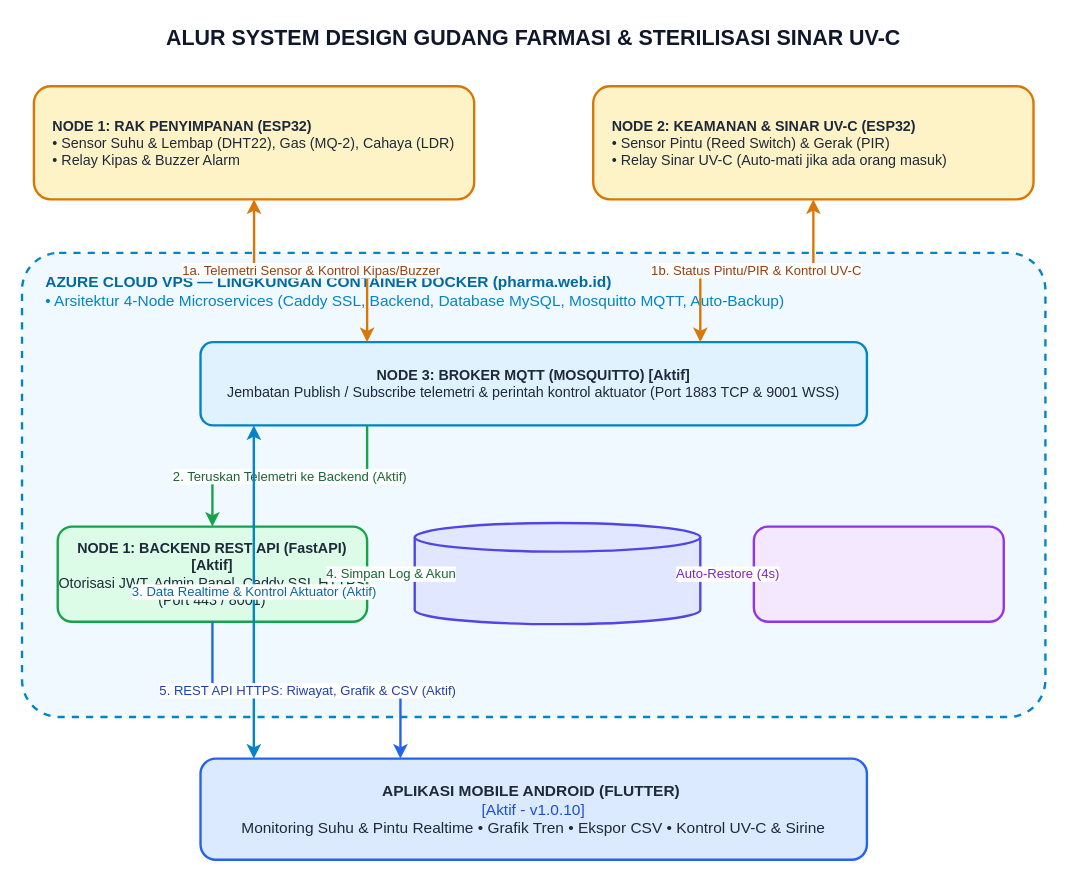
Image size: 1066x881. Some labels were removed from this diagram. Each missing label, with the box of its shape:
NODE 2: DATABASE (MySQL 8.0) [Aktif] Tabel users & sensor_data (Port 3306): (413, 521, 701, 625)
NODE 4: AUTO-BACKUP [Aktif] Disaster Recovery Watcher (Auto-Restore RTO 4 Detik): (752, 525, 1004, 622)
